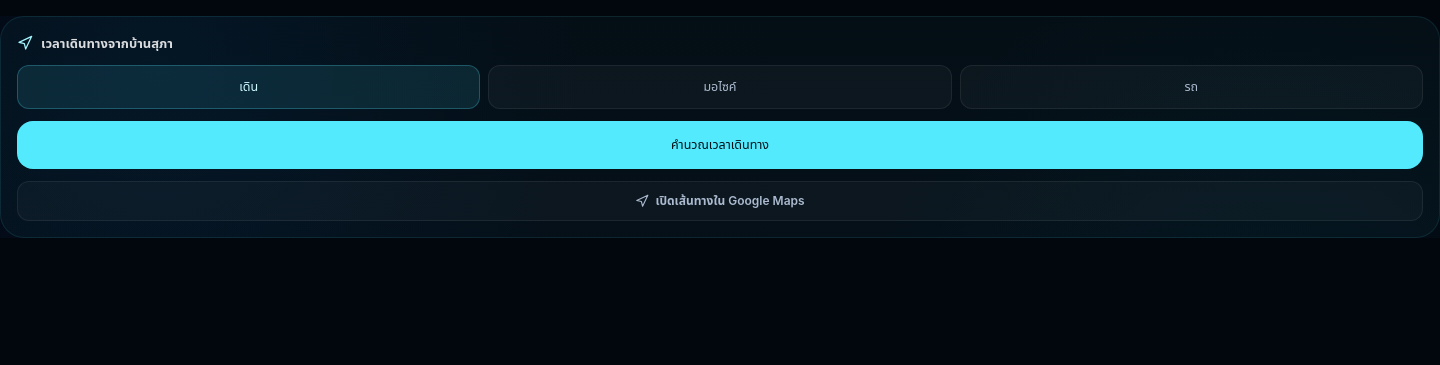
PlaceEtaPanel › offers an explicit recalculate action after success
The image size is (1440, 365).
Click the button "คำนวณเวลาเดินทาง" at coordinates (720, 145), box [17,121,1423,169]
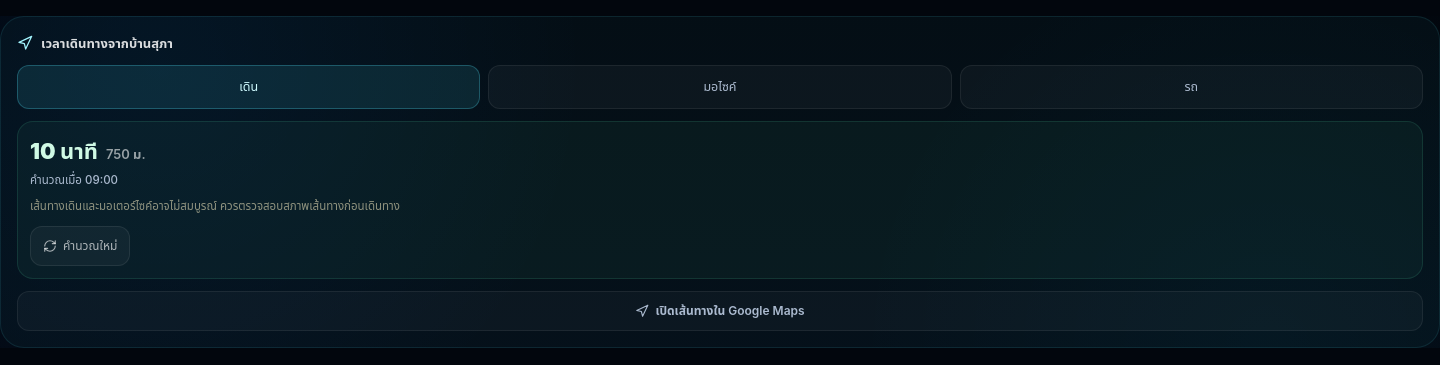
Result: the button "คำนวณใหม่" is shown at [30,226,130,266]
